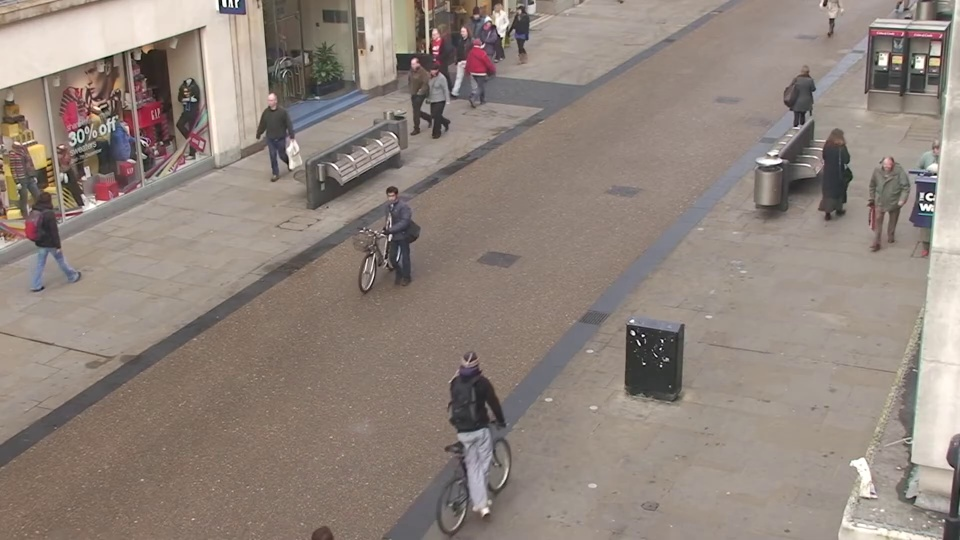pedestrian: (463, 331, 513, 482), (37, 181, 90, 292), (905, 139, 955, 245), (857, 153, 901, 261), (368, 187, 409, 302), (817, 125, 856, 225), (253, 92, 287, 180), (787, 61, 819, 144), (415, 62, 444, 142), (396, 55, 424, 133), (417, 27, 443, 98), (445, 27, 471, 97), (468, 32, 493, 104), (474, 14, 499, 82), (508, 5, 531, 70), (464, 7, 487, 71), (484, 3, 507, 67)
